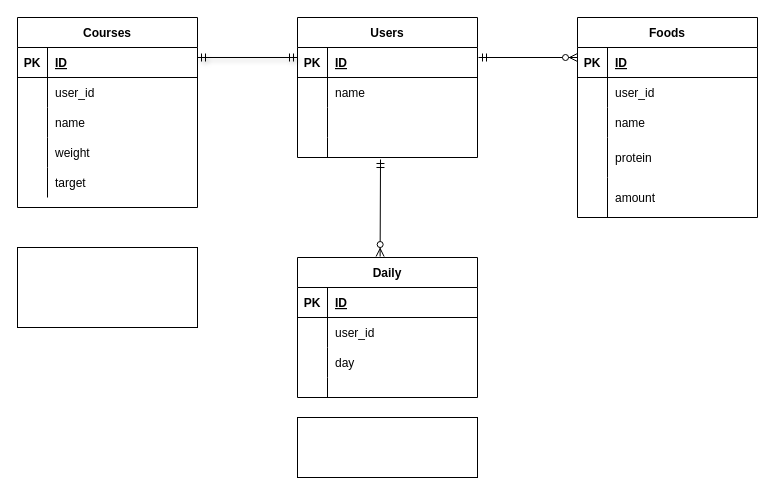
This 775x495 diagram has some shape labels left out. The centre of each missing label's shape, as x and y in pixels:
"1日のタンパク質摂取量 を計算して表示させるが、 テーブルとしてデータを作成する必要がないかもしれない" belongs at [387,447].
"コーステーブルには ユーザーの外部キー コース名 ユーザーの体重 目標値" belongs at [107,287].
